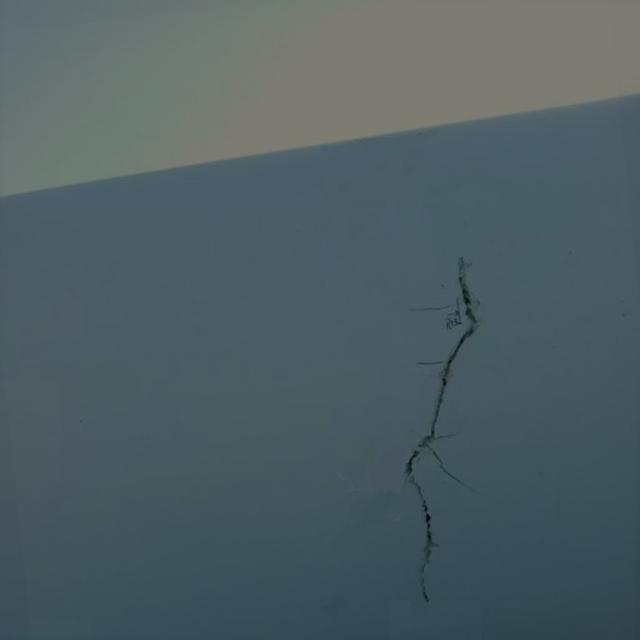crack: (404, 257, 480, 609)
